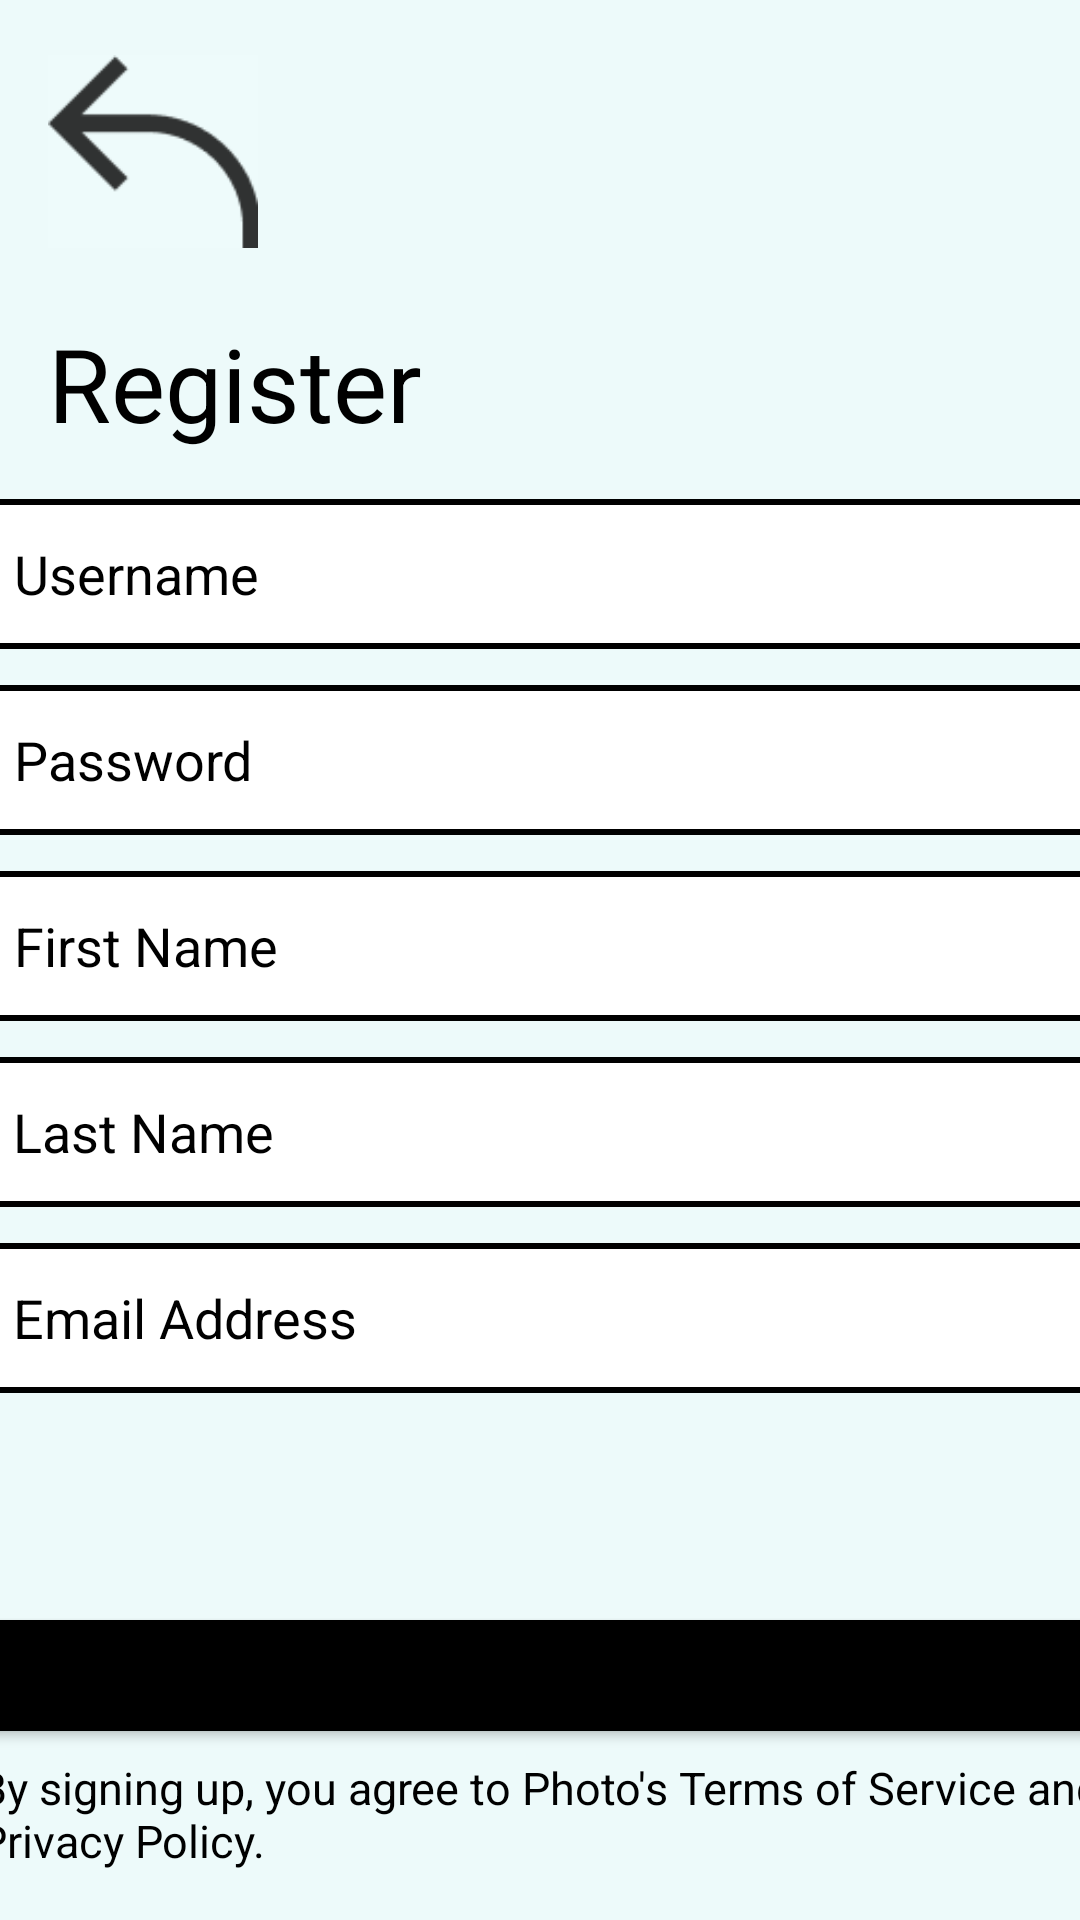

Screen size 1080×1920. Icon name, then its box in pixels as (x1, y1, x2, y2):
Go back to start screen: (48, 56, 258, 248)
